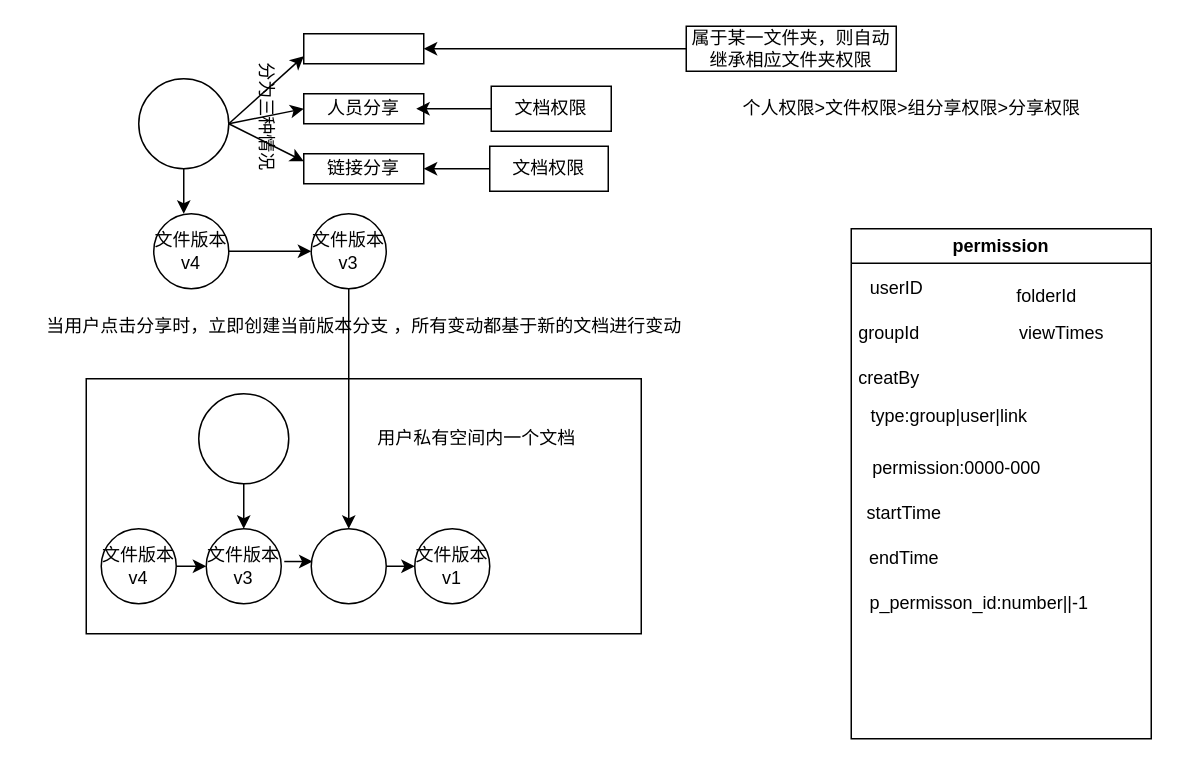
This 1178x765 diagram has some shape labels left out. Each missing label, with the centre of its shape:
分享分支: point (183, 123)
当前文件: point (243, 438)
文件版本v2: point (348, 565)
组分享: point (363, 48)
